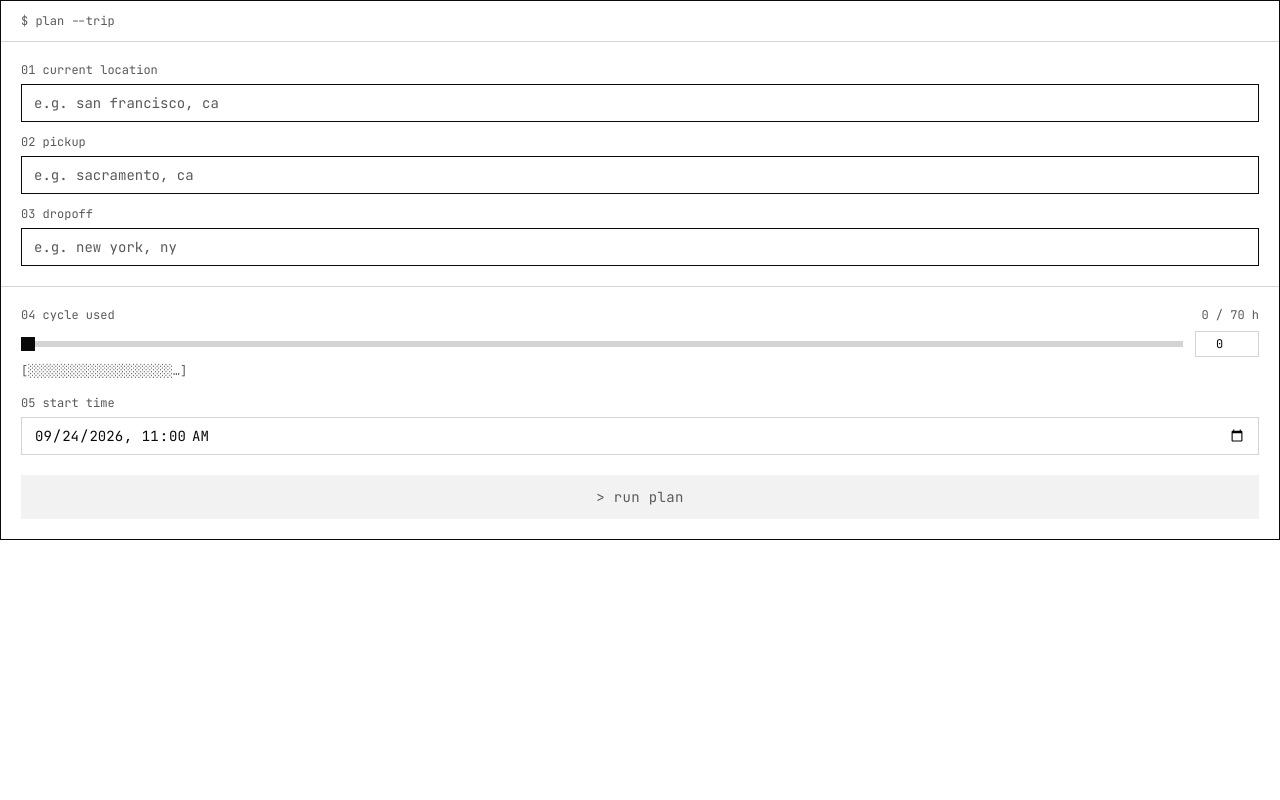
Scenario: TripForm › shows validation error when dropoff matches pickup
In the dropdown labelled "01 current location": x=640, y=103 [34, 93, 1246, 113], type "San Francisco, CA"
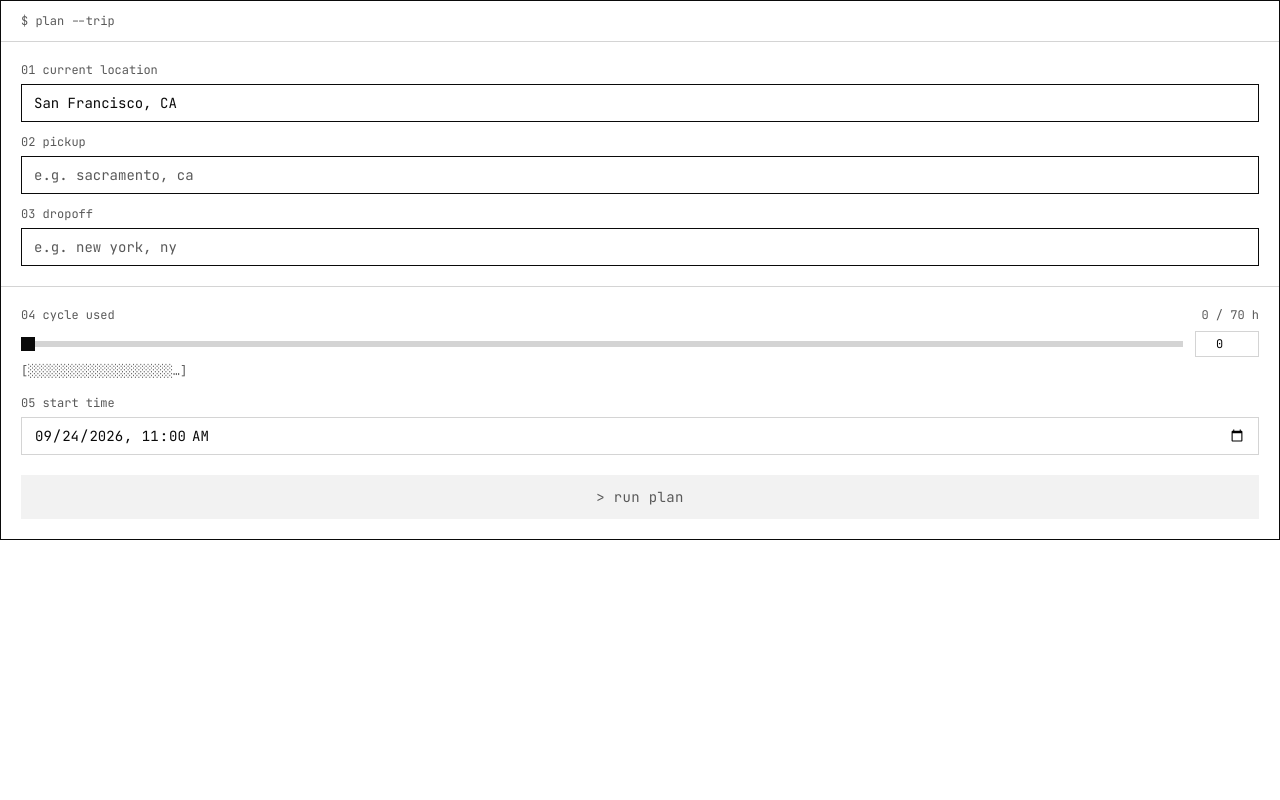
In the dropdown labelled "02 pickup": x=640, y=175 [34, 165, 1246, 185], type "Same Place"
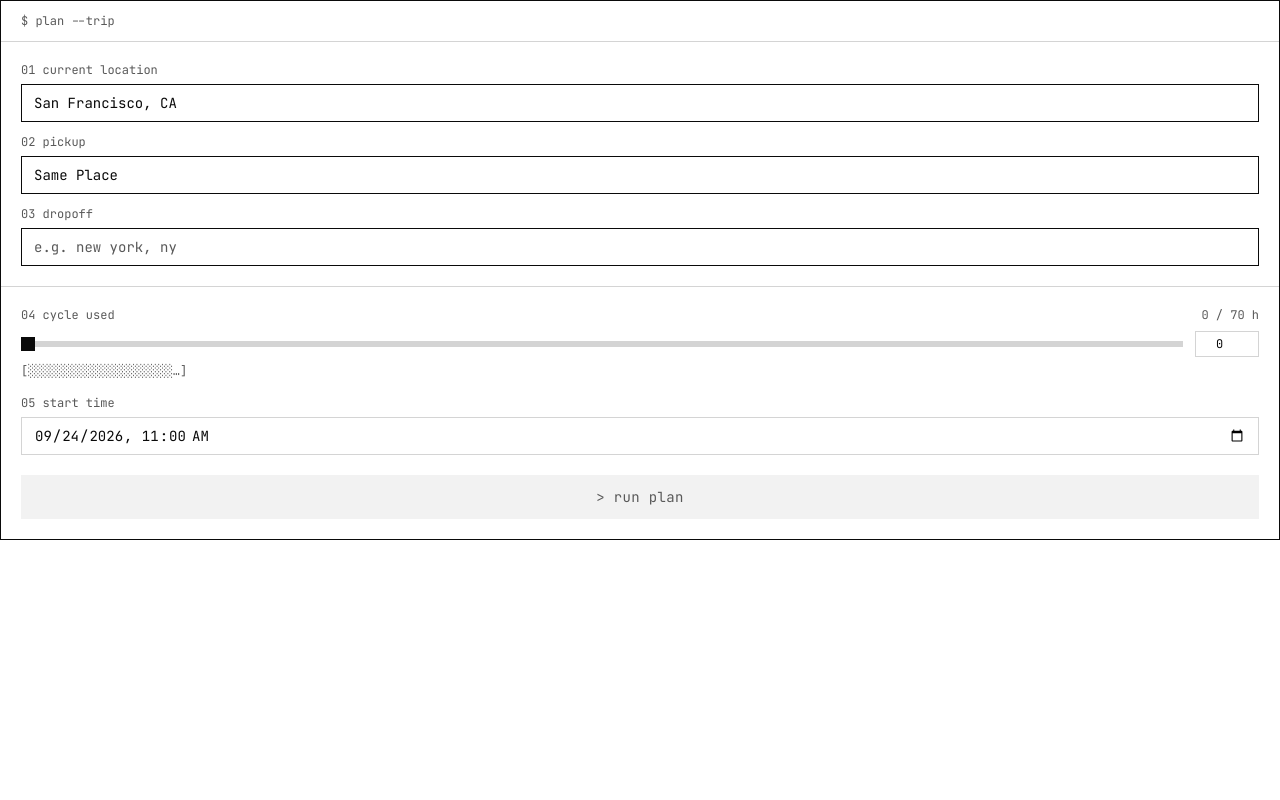
In the dropdown labelled "03 dropoff": x=640, y=247 [34, 237, 1246, 257], type "Same Place"
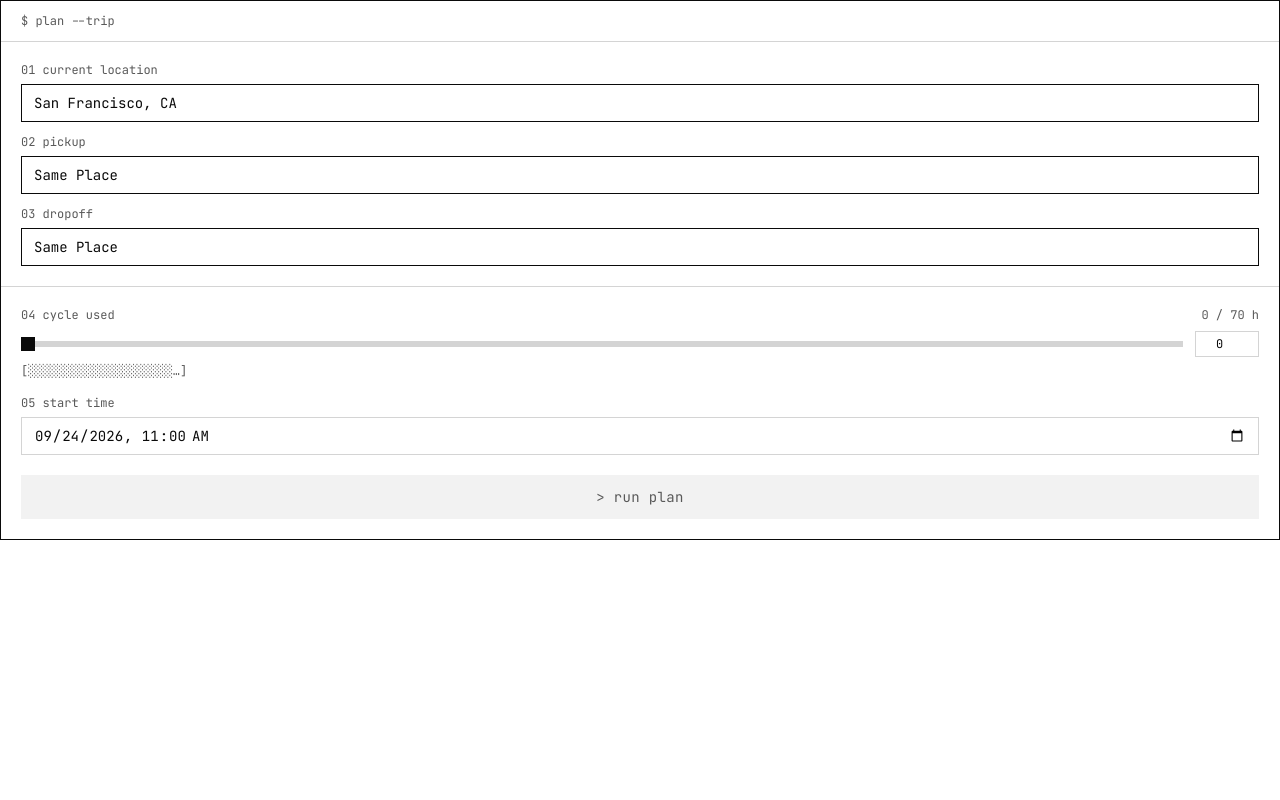
Leave the dropdown labelled "03 dropoff", box [34, 237, 1246, 257]
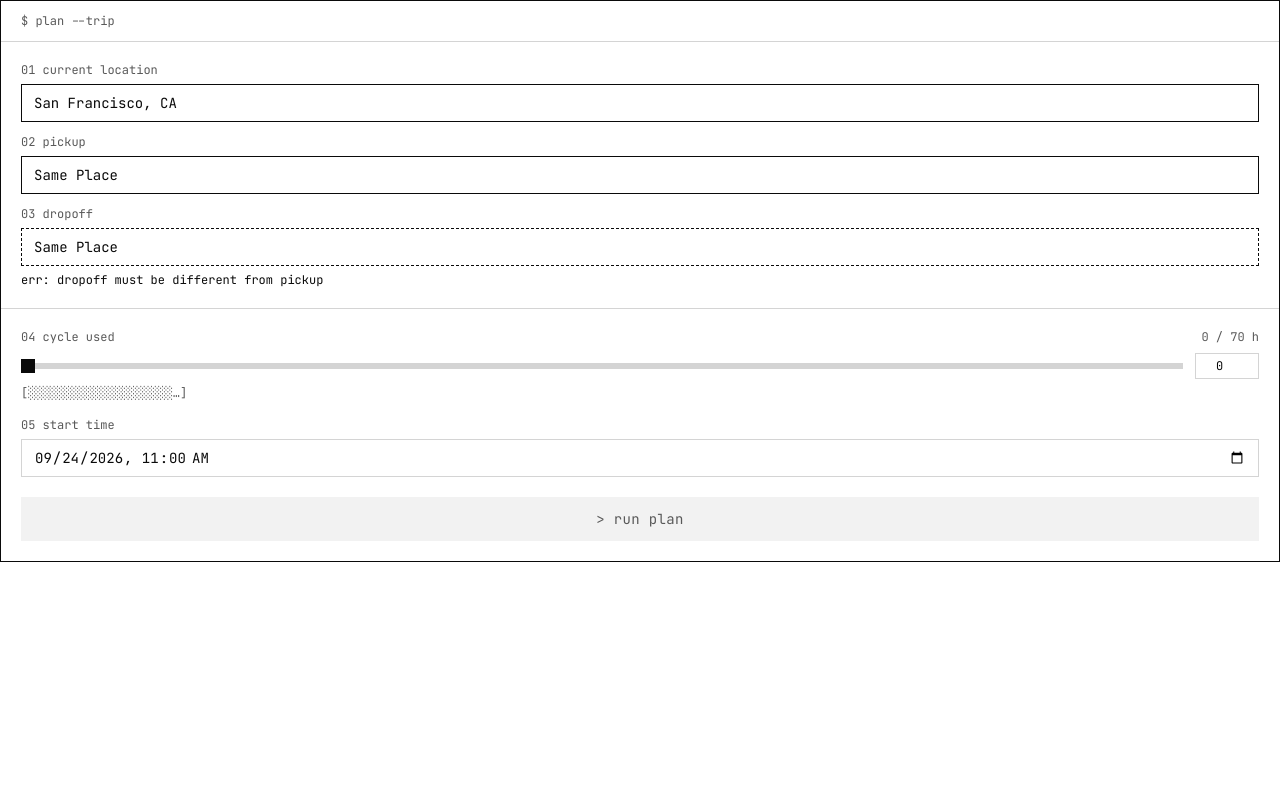
Now the text "err: dropoff must be different from pickup" is shown, box [21, 272, 323, 288]
